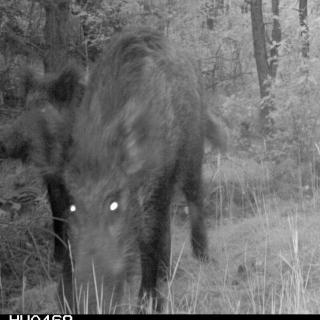Pig: (34, 38, 204, 317)
